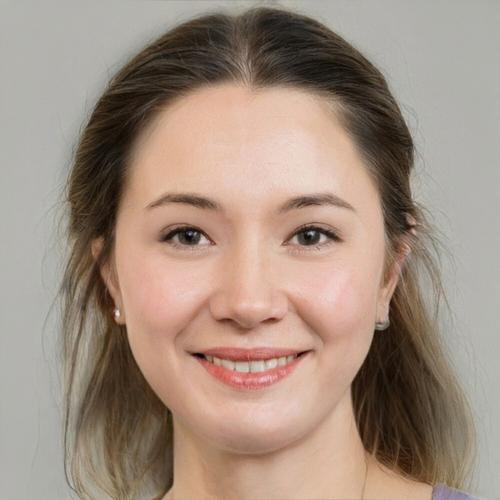no_mask: (108, 73, 387, 447)
